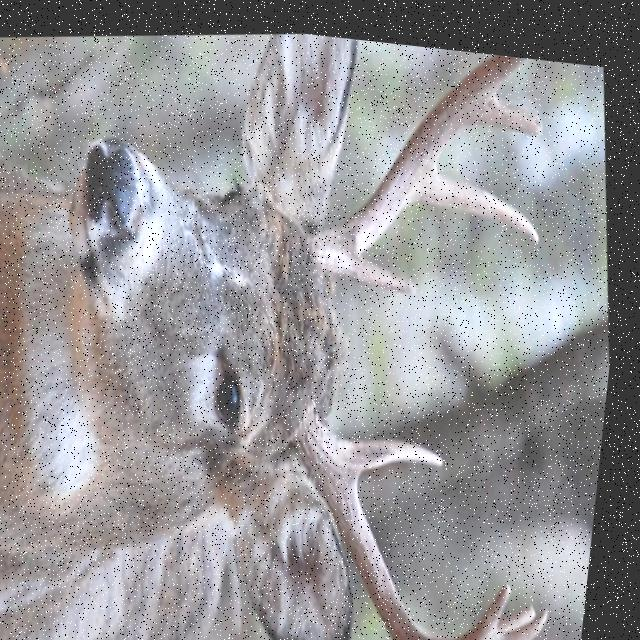L-F: (296, 394, 522, 640)
L-G1: (344, 428, 451, 473)
R-F: (305, 43, 527, 288)
R-G1: (345, 245, 420, 286)
R-G2: (415, 155, 542, 230)
